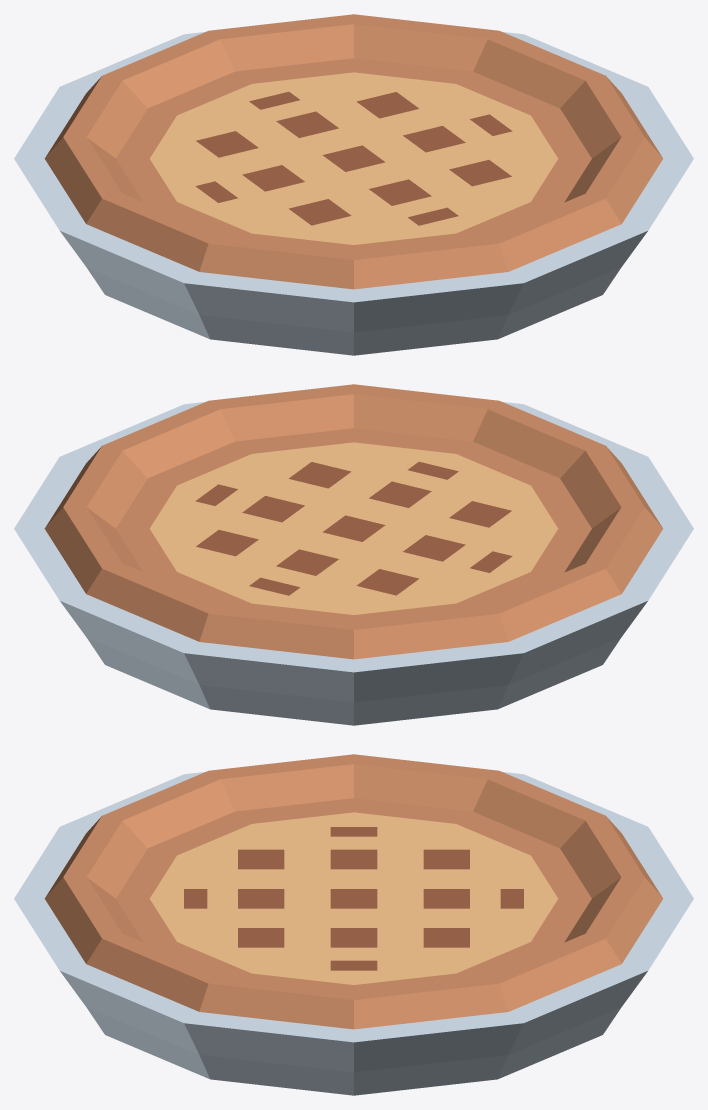
File: pie.fbx
3 renders of one model, top to bottom at view 1: azimuth 30°, elevation 25°; view 2: azimuth 150°, elevation 25°; view 3: azimuth 270°, elevation 25°, orthographic.
Visible parts, largest first — view 1: pie; view 2: pie; view 3: pie.
Boxes of the visible parts, x1,y1,x2,y2 form: pie: [14, 14, 693, 355]; pie: [14, 384, 693, 725]; pie: [14, 754, 693, 1095].
Bounding box in the file's own units: 9.5 × 1.5 × 9.5.
